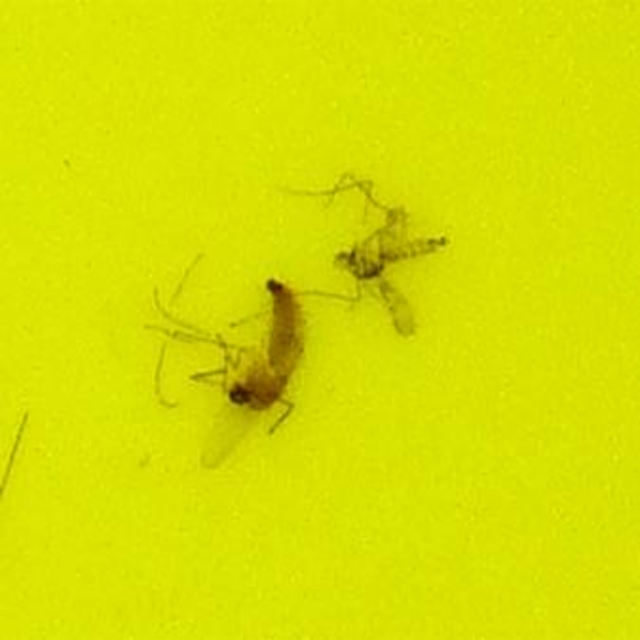Nematocera: (190, 273, 308, 436), (330, 204, 450, 336)
